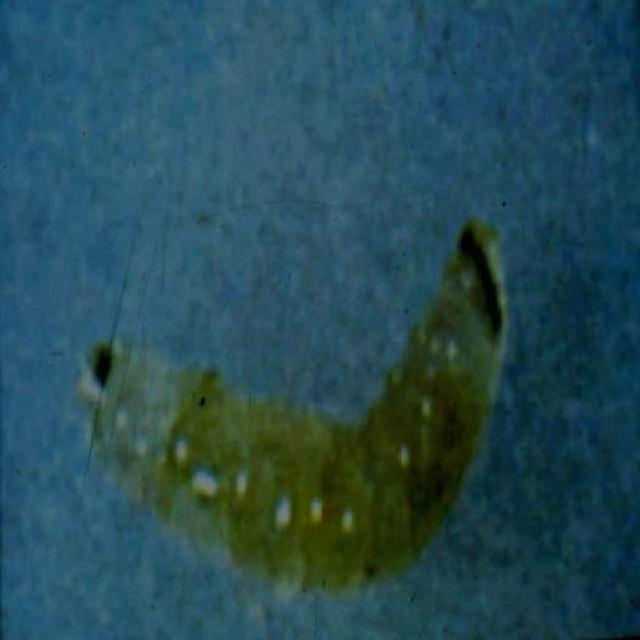whorl-maggot: (82, 215, 506, 594)
